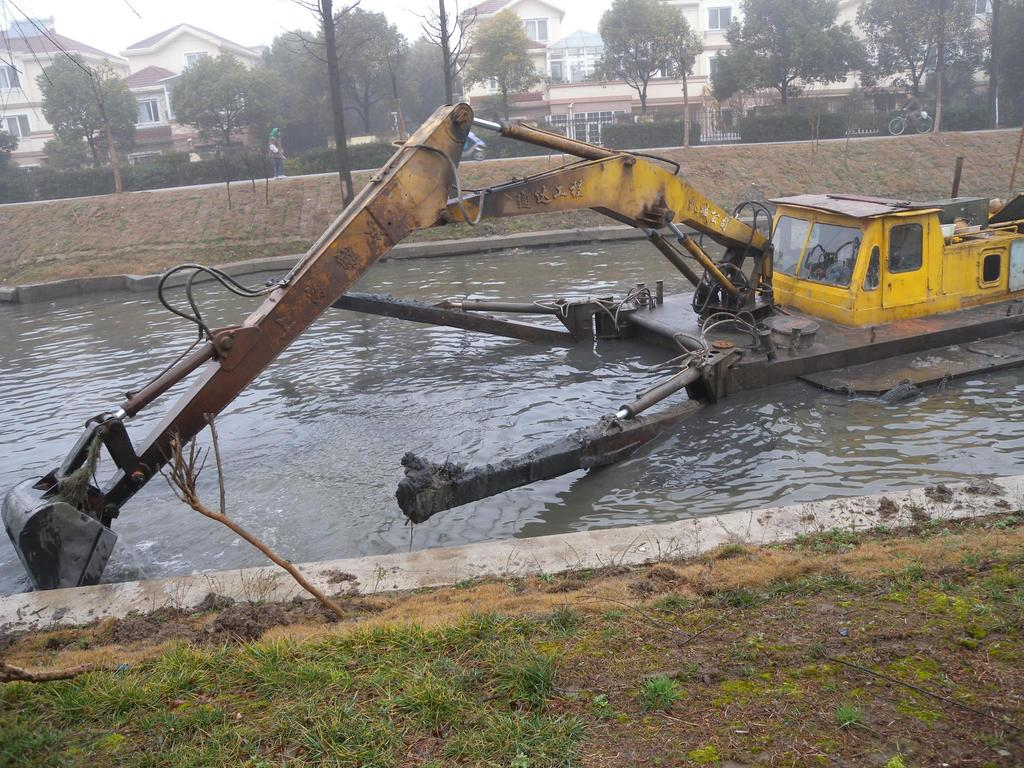Tree: (0, 3, 547, 191), (585, 0, 1024, 129)
